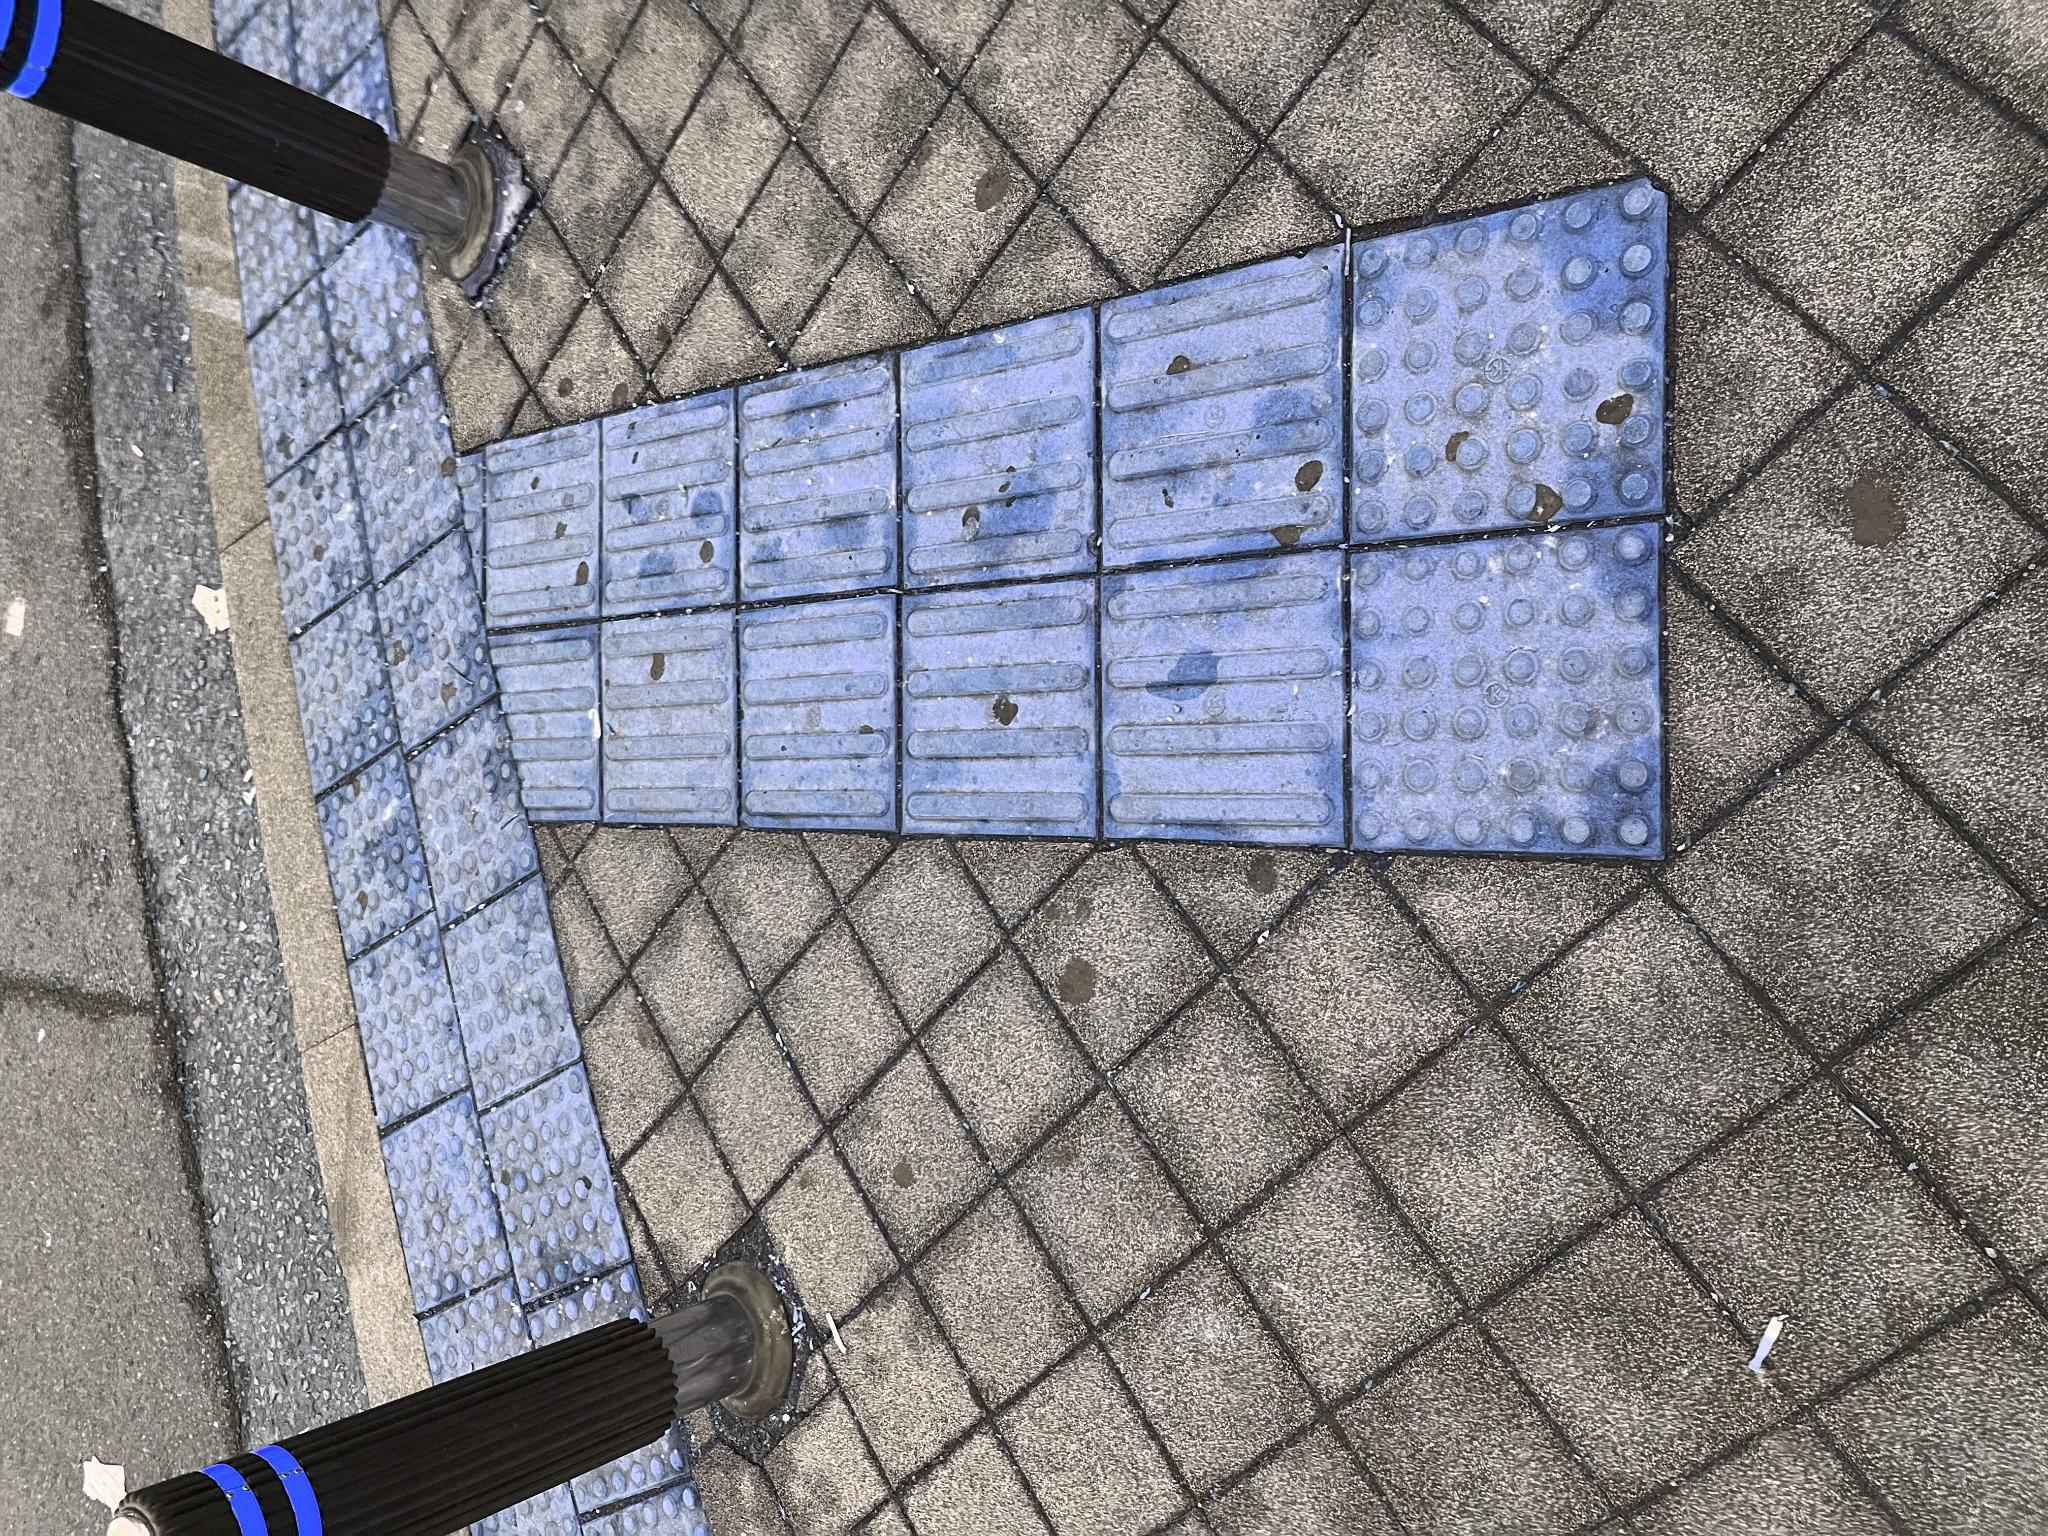Stop block normal: (997, 1350, 1329, 1536), (685, 1352, 1001, 1536), (427, 442, 660, 579), (611, 407, 834, 539), (787, 376, 1008, 494), (951, 350, 1176, 460), (579, 318, 789, 431), (742, 290, 950, 397)
Straight block normal: (968, 1100, 1287, 1341), (692, 1105, 984, 1346), (950, 900, 1227, 1092), (703, 900, 958, 1094), (935, 741, 1184, 897), (706, 739, 943, 897), (921, 602, 1147, 733), (713, 603, 926, 736)
